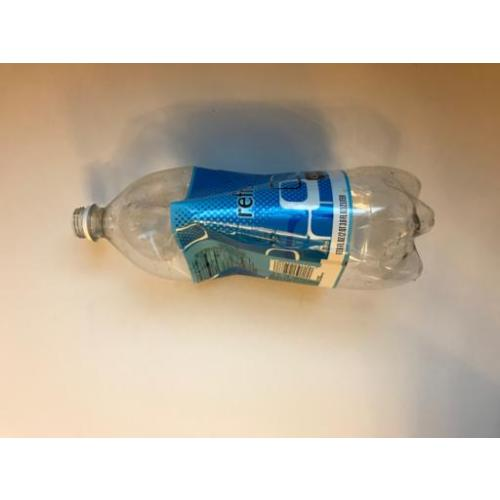plastic: (73, 168, 434, 288)
